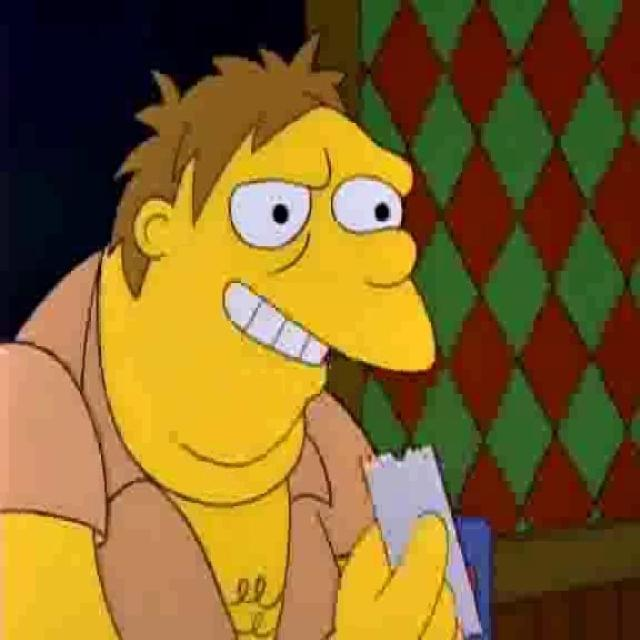Barney Gumble: (98, 30, 440, 508)
